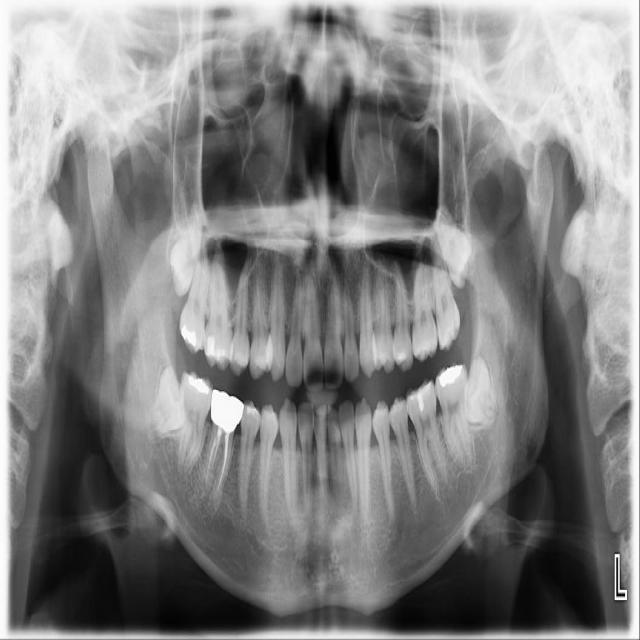3M ESPE Implant: (162, 199, 207, 300)
52: (426, 358, 477, 410), (397, 375, 447, 427), (178, 369, 214, 418), (207, 389, 246, 434), (203, 318, 233, 370), (179, 299, 206, 355), (241, 400, 261, 436)
73: (198, 419, 237, 502), (592, 565, 598, 579)
BioHorizons Implant: (426, 224, 463, 354)
BioLife Implant: (426, 199, 484, 290)
Biomet 3i Implant: (456, 354, 501, 431)
Blue Sky Bio Implant: (433, 361, 473, 468)
Caries: (178, 235, 210, 356)
Implant: (176, 370, 214, 482)
Keystone Dental Implant: (135, 364, 203, 451)
